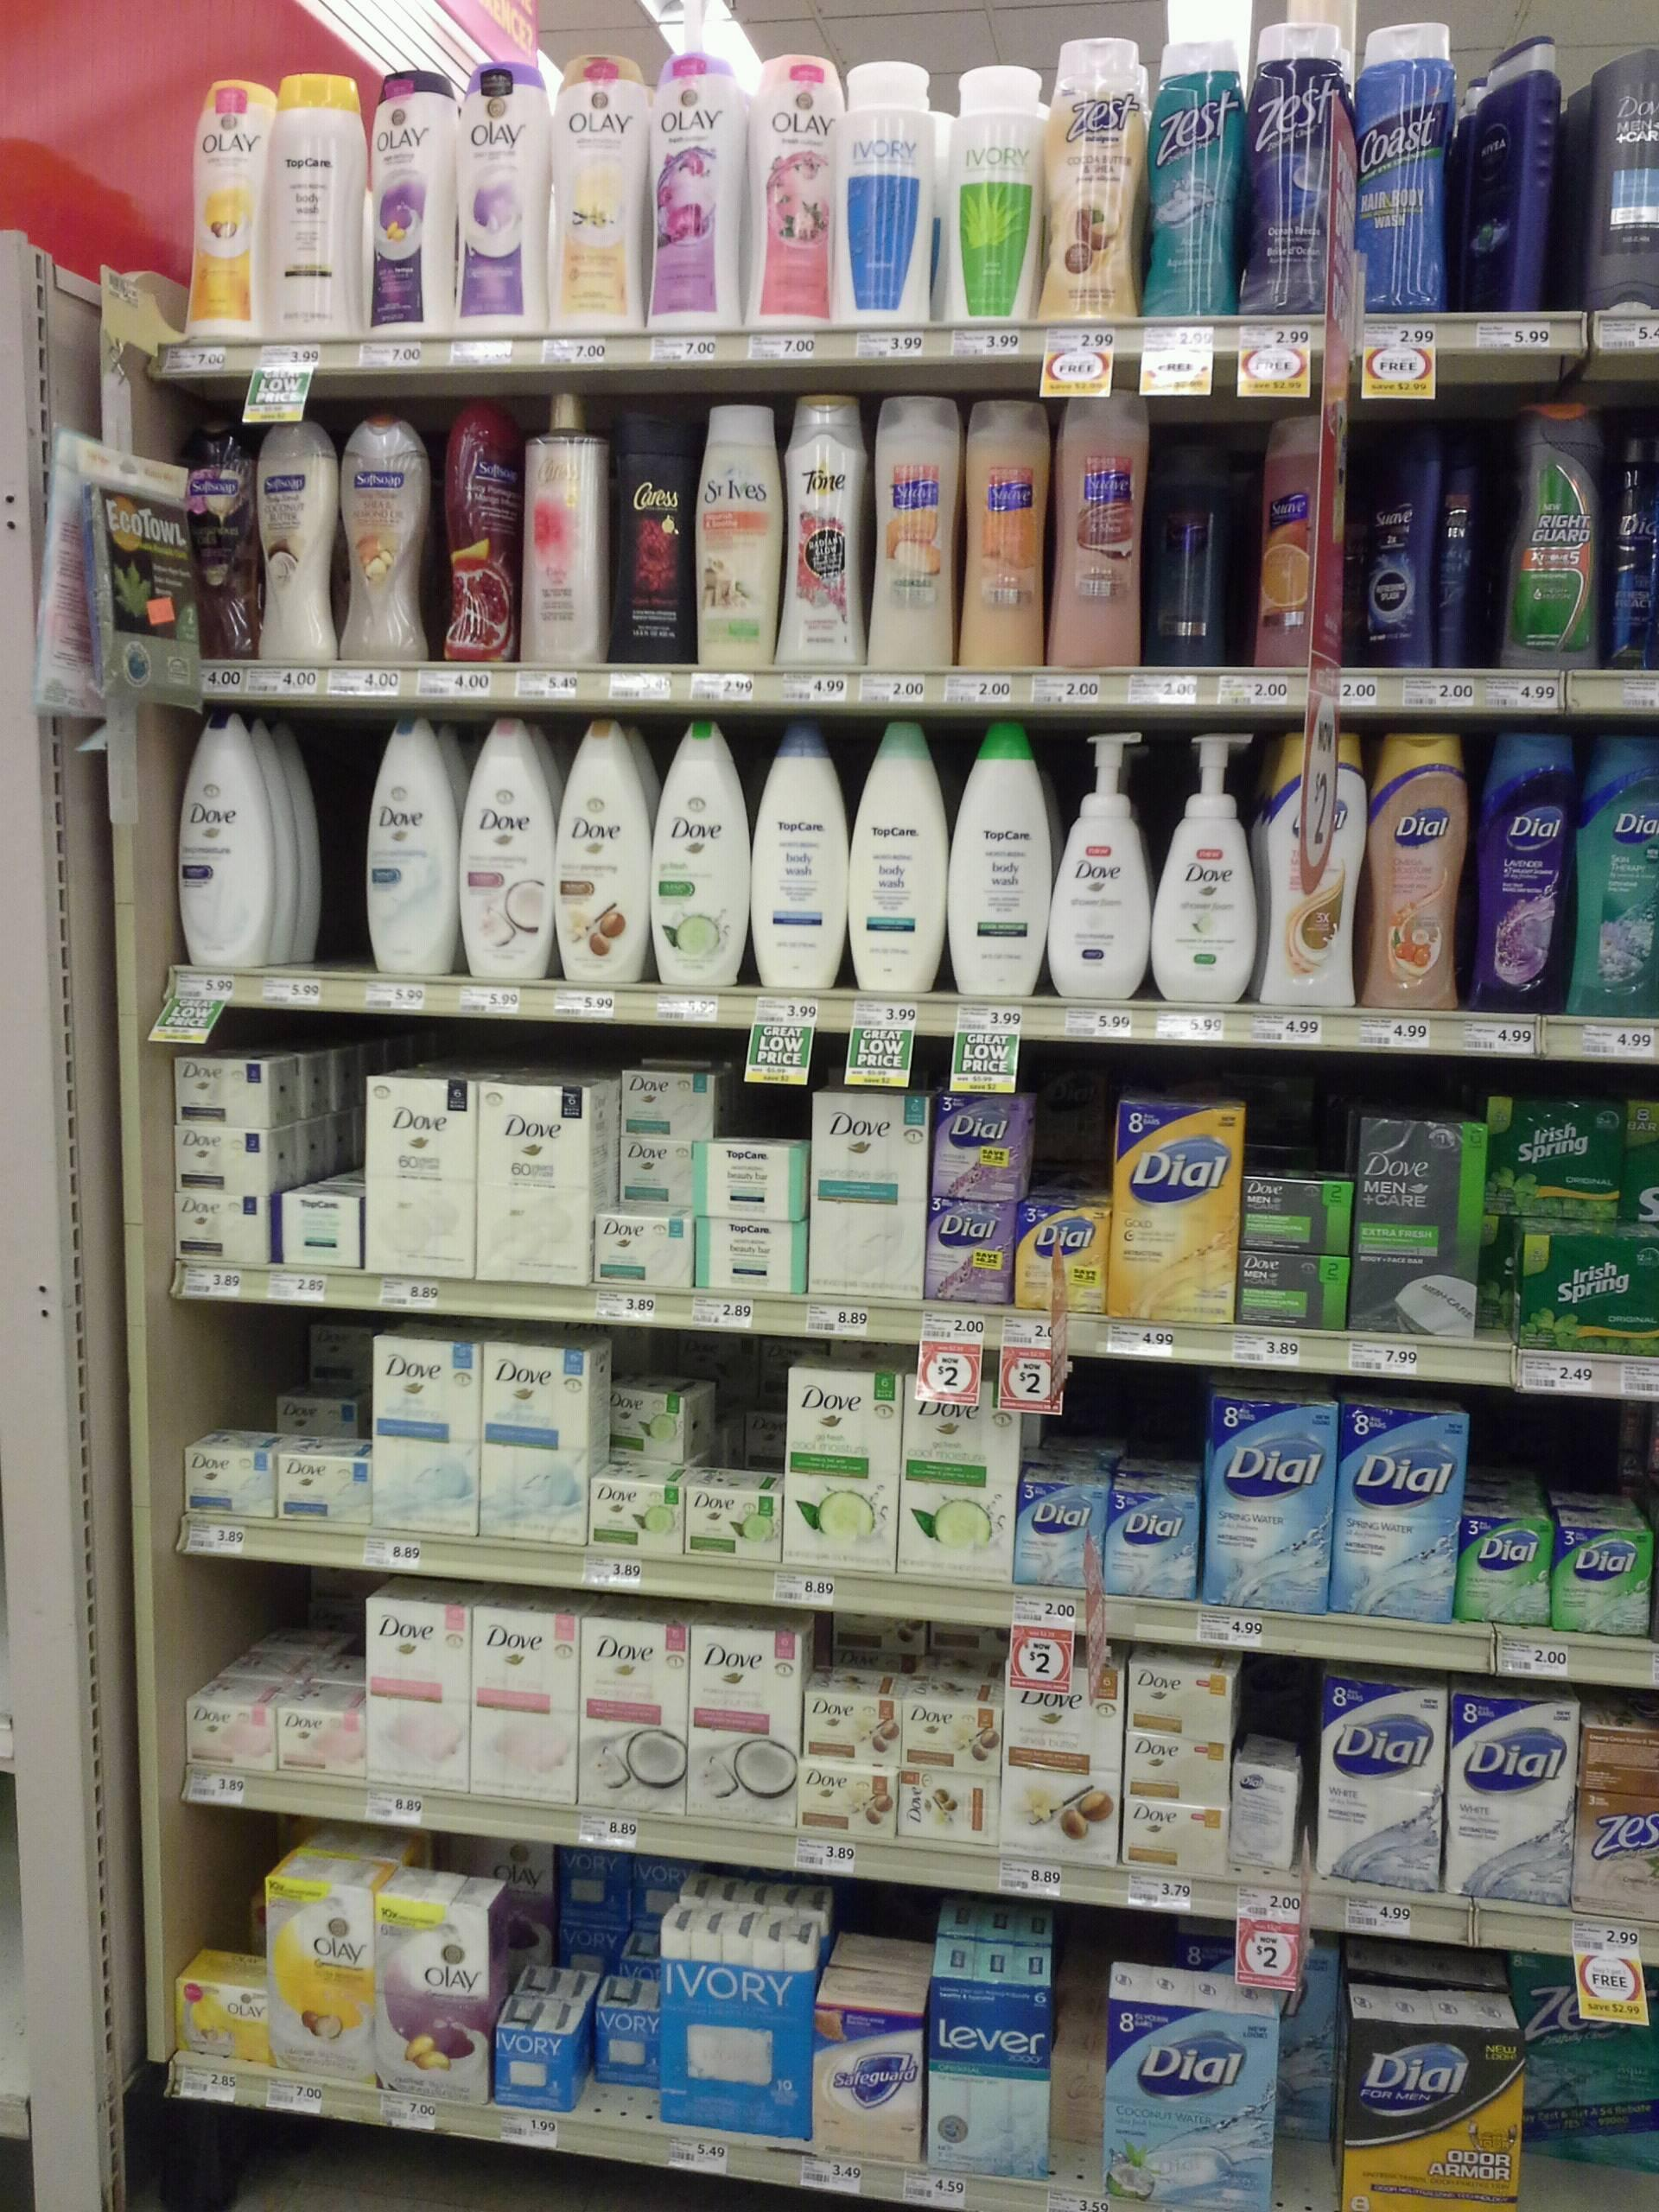misalignment: (1467, 30, 1565, 308), (1154, 441, 1237, 665)
